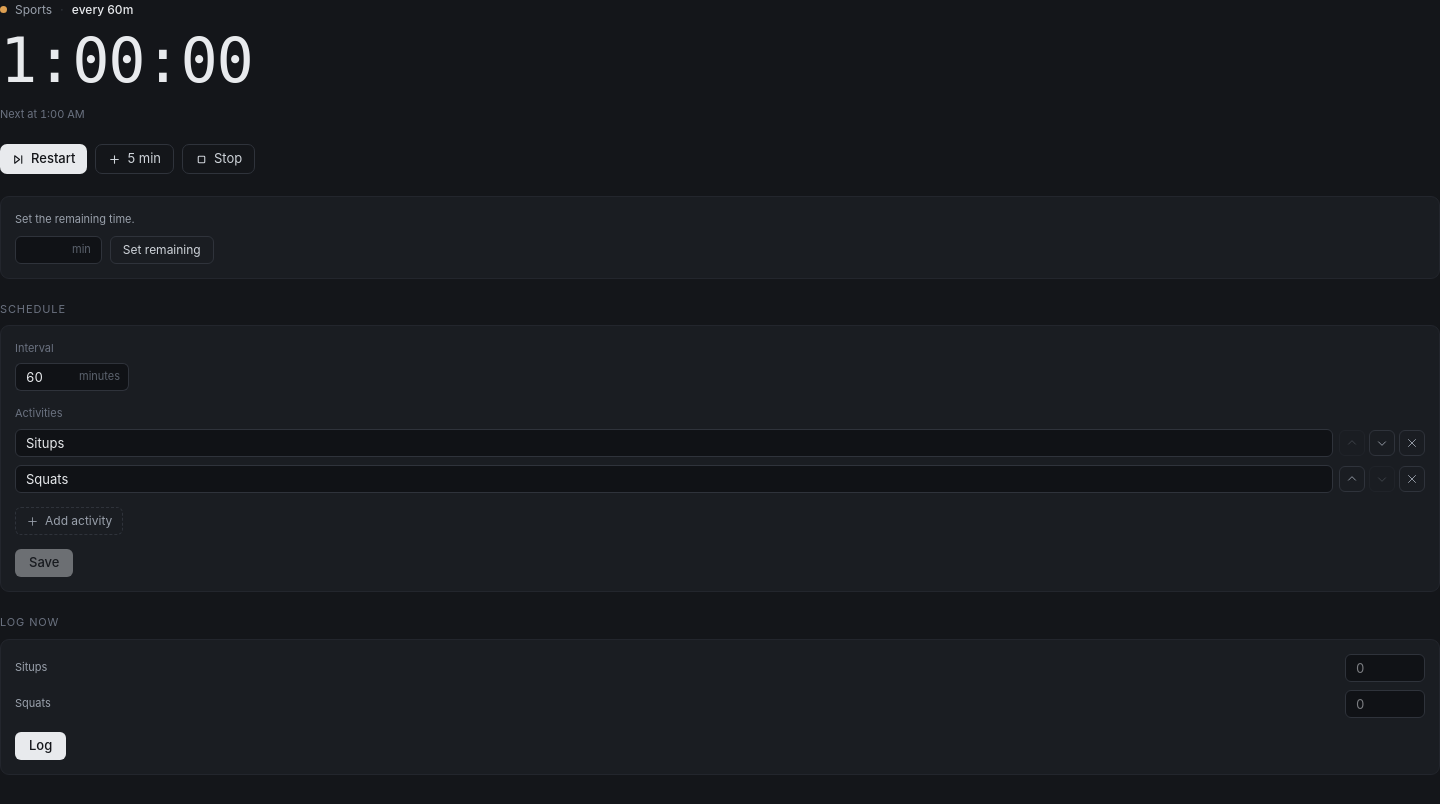
Test case: editing the schedule › adds an activity
Expected: the 1st field showing "Situps" is shown, 15,429 -> 1333,457
Click the button "Add activity" at (69, 521), box 15,507 -> 123,535
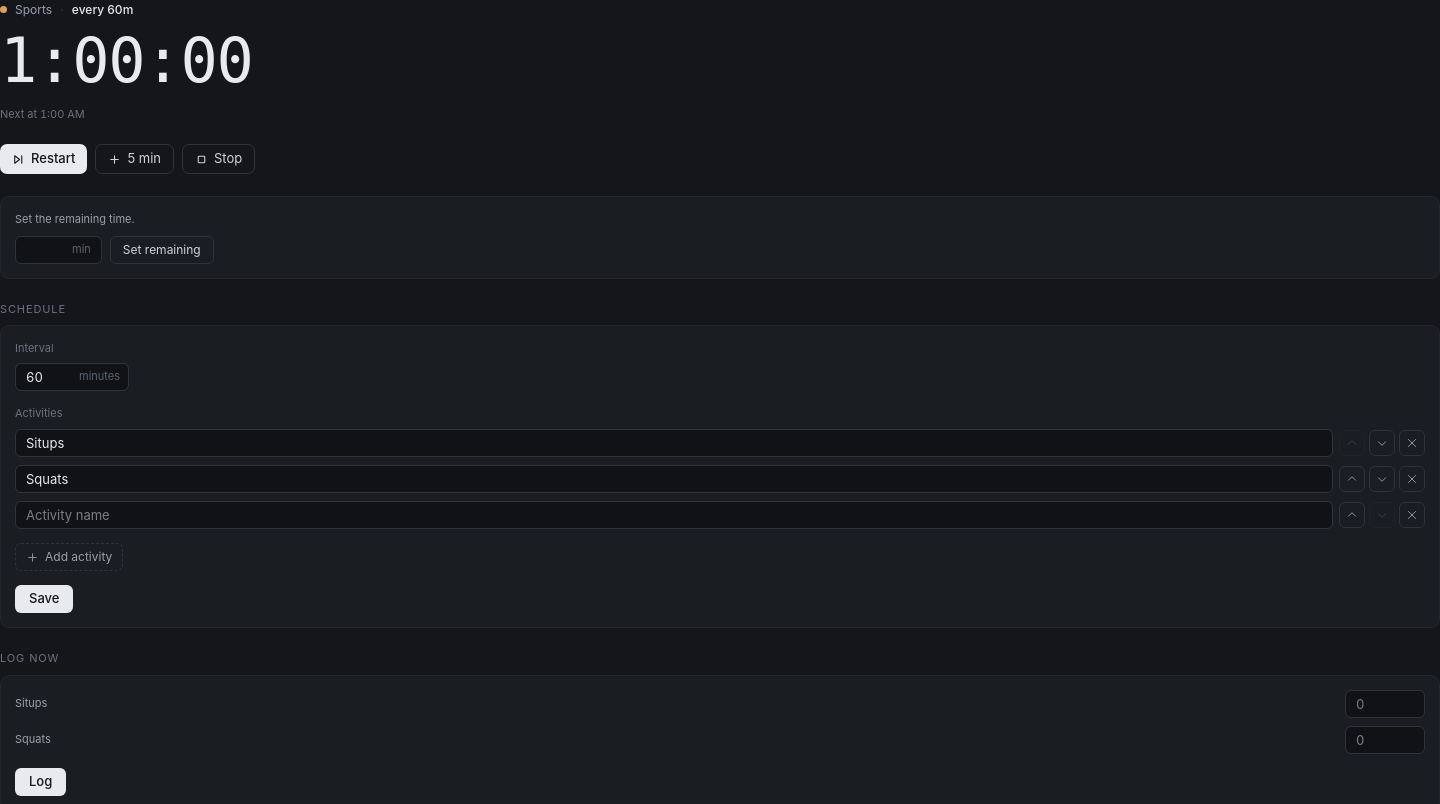
Type "Pushups" into the field named "Activity 3 name" at (674, 515), box 15,501 -> 1333,529
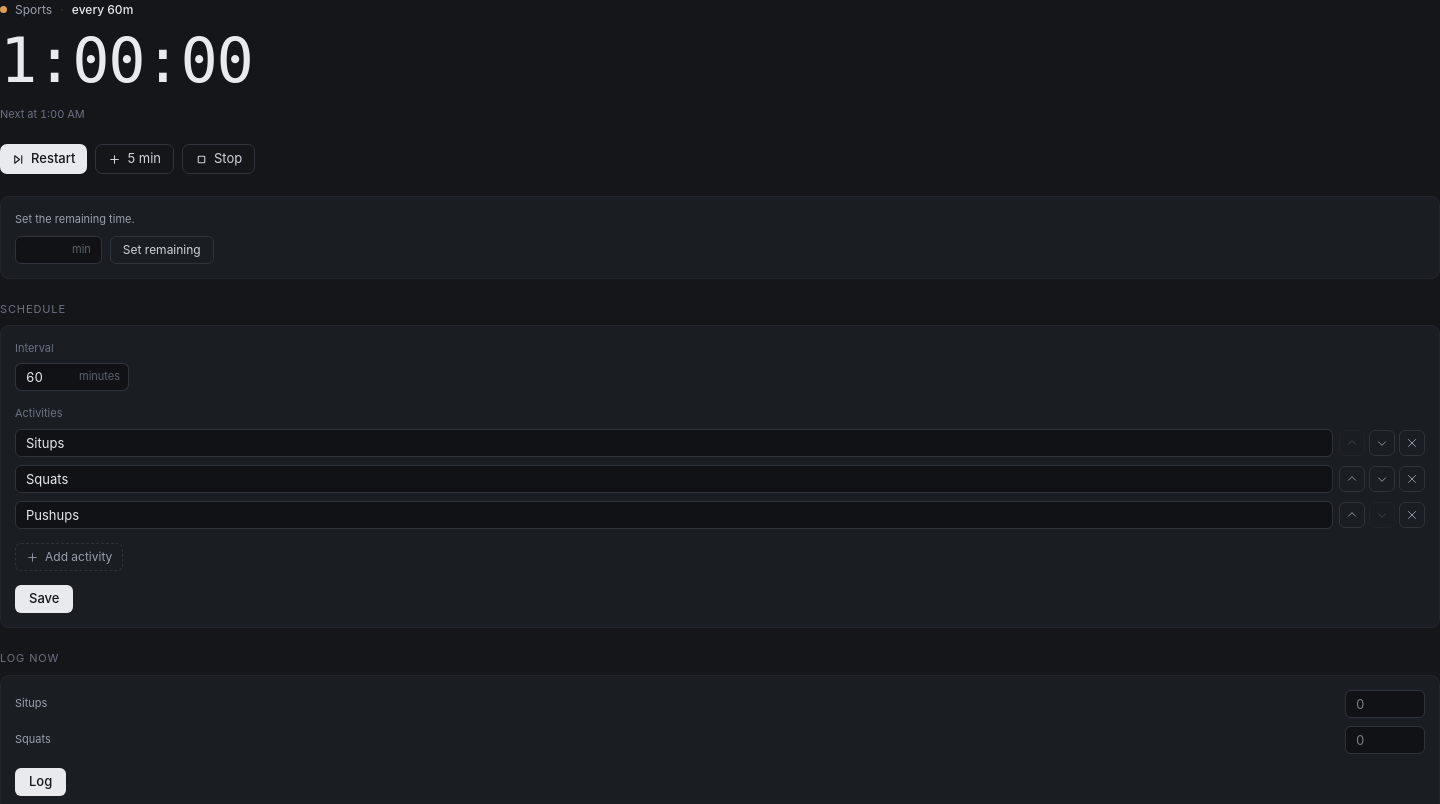
Click the button "Save" at (44, 599), box 15,585 -> 73,613
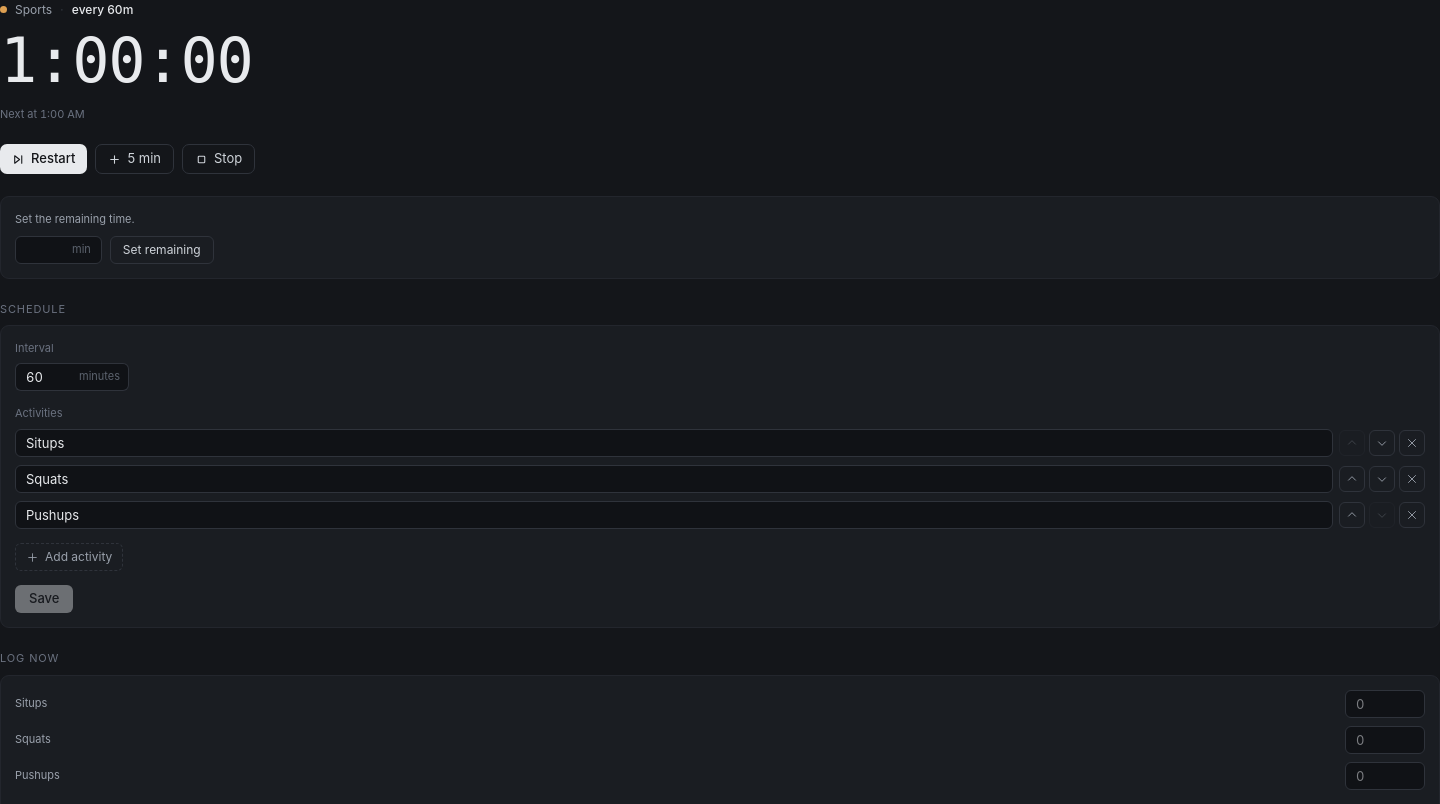
Now the label "Pushups" is shown, box 15,768 -> 60,782
